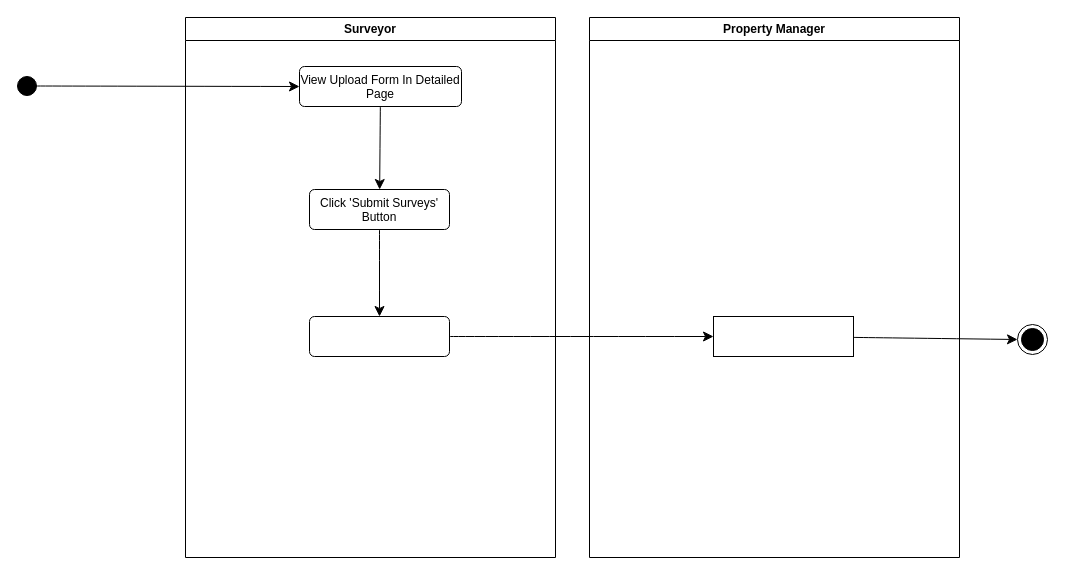
Some shapes in this 1065 by 575 pixel diagram are drawn without their labels. Here are the shapes that lost their labels. From the top down, the centre of each, then its label:
pixel 379 336: Set Job Complete For Surveyor
pixel 783 336: Update UI to show surveys
